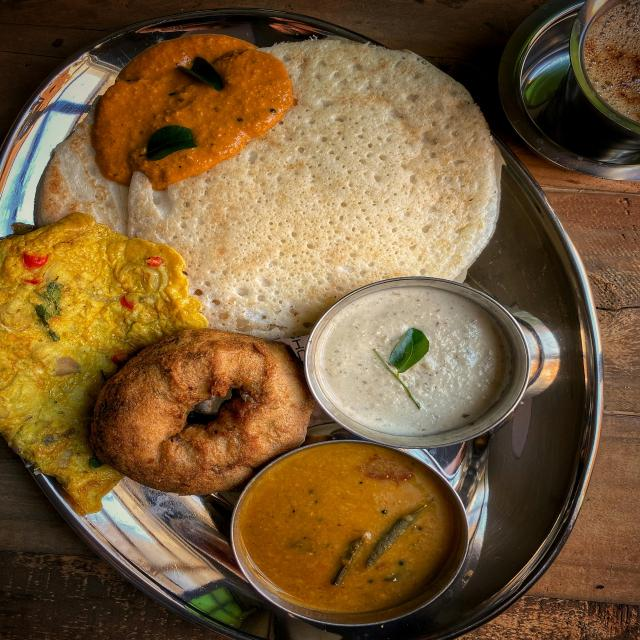Chutney: (316, 286, 520, 437), (110, 43, 276, 164)
Sambhar: (248, 442, 447, 610)
Uttapam: (165, 46, 491, 286)
Vada: (83, 325, 310, 496)
